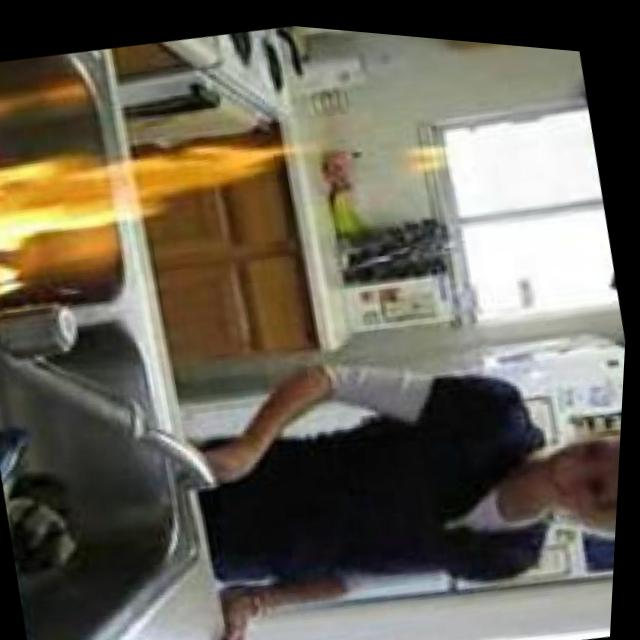Fire: (0, 69, 321, 320)
